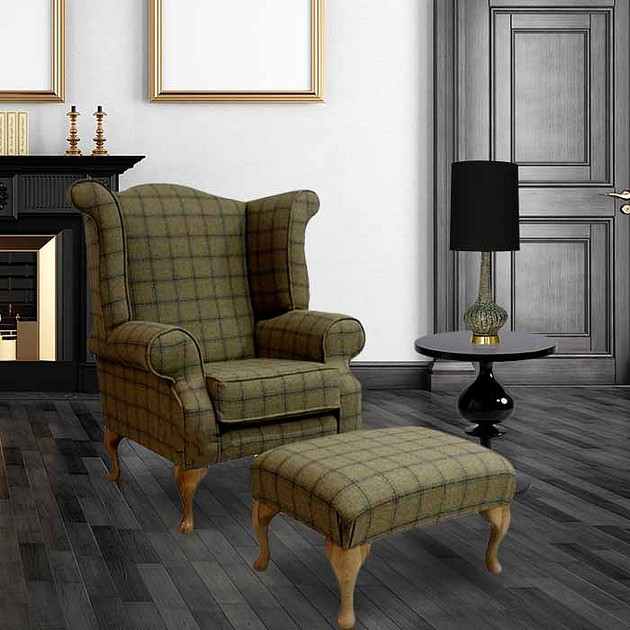chairs: (62, 181, 374, 540), (231, 421, 520, 630)
